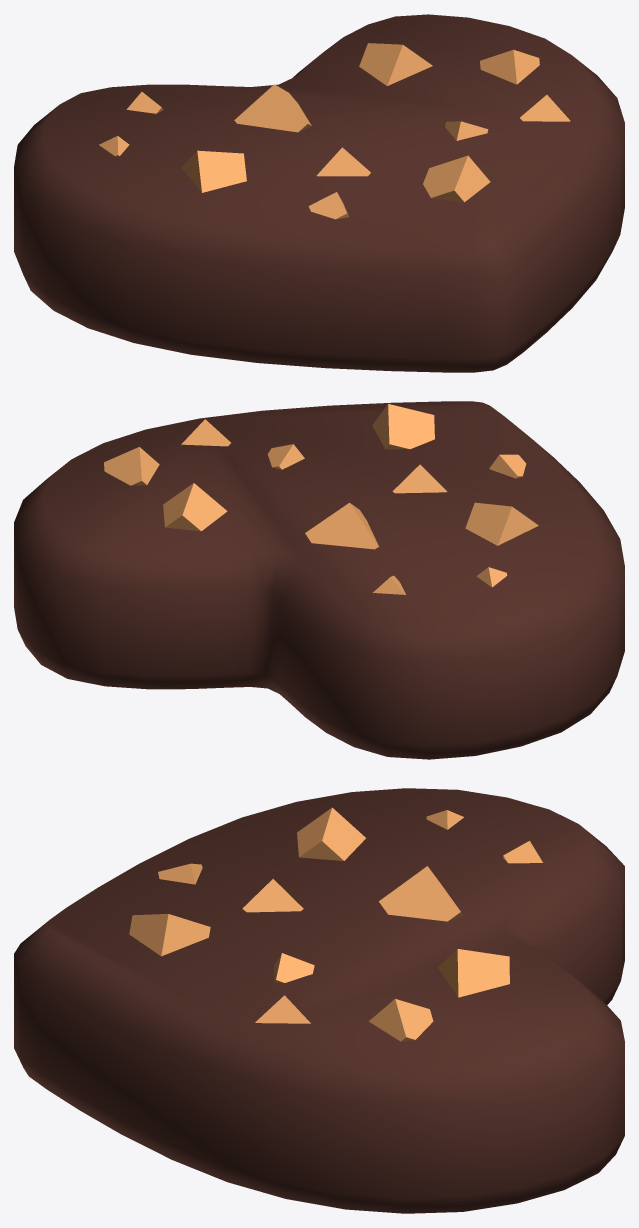
File: choco_icon_2.fbx
The picture shows the model from 3 angles, top to bottom: view 1: azimuth 30°, elevation 25°; view 2: azimuth 150°, elevation 25°; view 3: azimuth 270°, elevation 25°; orthographic projection. The views are drawn at different scales.
Parts seen in each view (by area): view 1: chocolate_4_2.001; view 2: chocolate_4_2.001; view 3: chocolate_4_2.001.
Boxes of the visible parts, x1=… form: chocolate_4_2.001: x1=14, y1=14, x2=624, y2=372; chocolate_4_2.001: x1=14, y1=401, x2=624, y2=759; chocolate_4_2.001: x1=14, y1=788, x2=624, y2=1213.
Bounding box in the file's own units: 49.64 × 14.62 × 42.75.
